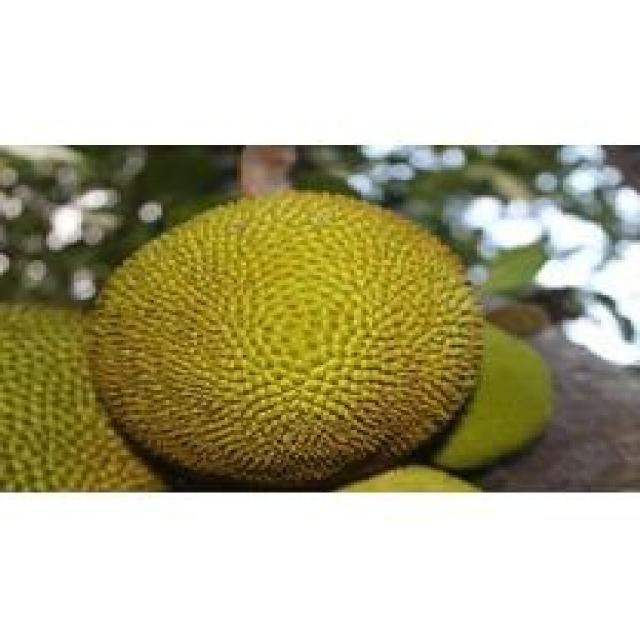Fruit: (92, 178, 505, 492)
